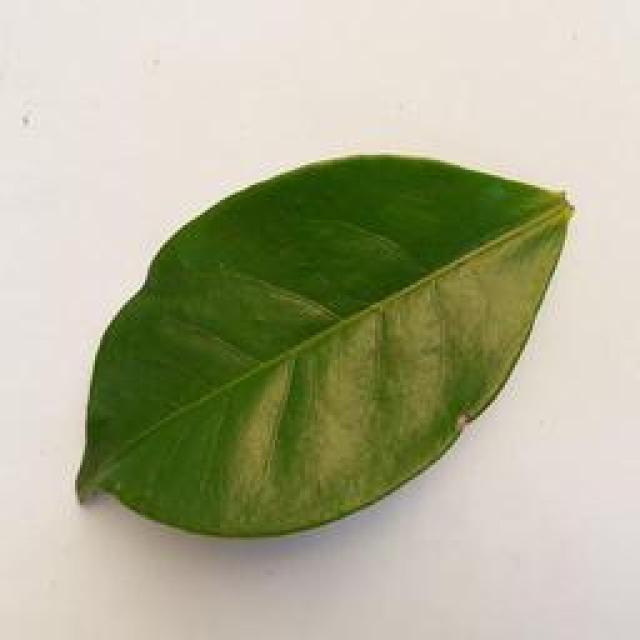Healthy: (73, 149, 572, 542)
